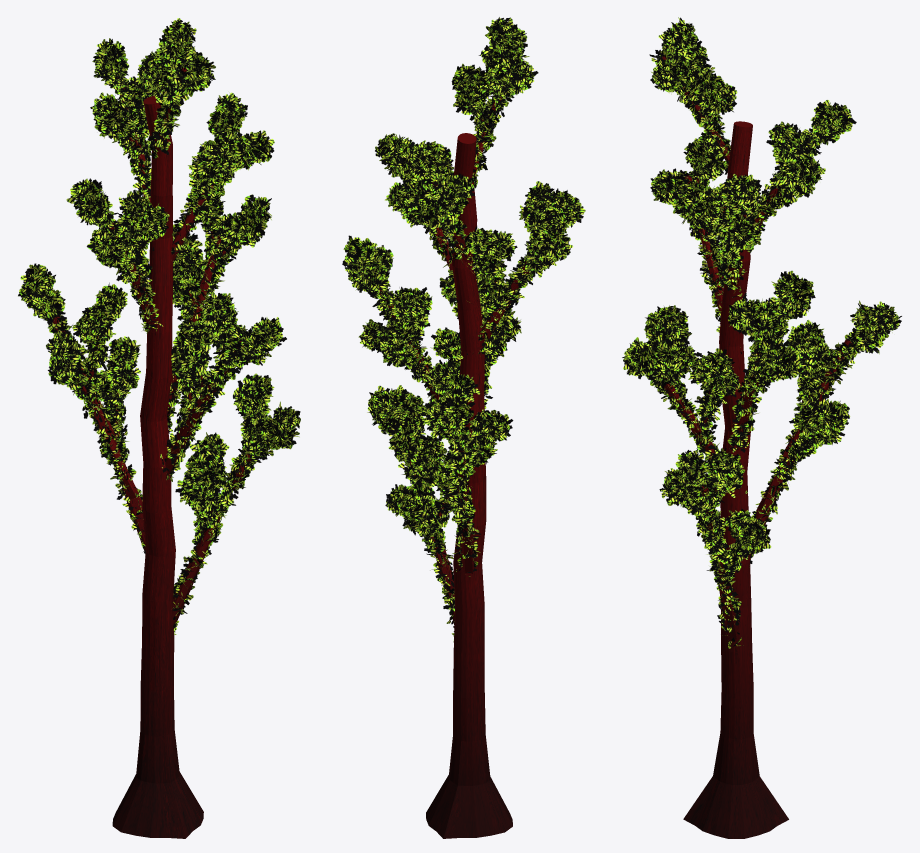
File: baldcypress_v01.glb
The picture shows the model from 3 angles, left to right: view 1: azimuth 30°, elevation 25°; view 2: azimuth 150°, elevation 25°; view 3: azimuth 270°, elevation 25°; orthographic projection. The views are drawn at different scales.
Visible parts, largest first — view 1: baldcypress_v01; view 2: baldcypress_v01; view 3: baldcypress_v01.
Boxes of the visible parts, x1,y1,x2,y2 form: baldcypress_v01: [18, 18, 300, 838]; baldcypress_v01: [342, 17, 585, 838]; baldcypress_v01: [622, 17, 901, 838].
Bounding box in the file's own units: 8.04 × 27.61 × 9.03.
Materials: 2 (2 with a texture image).
